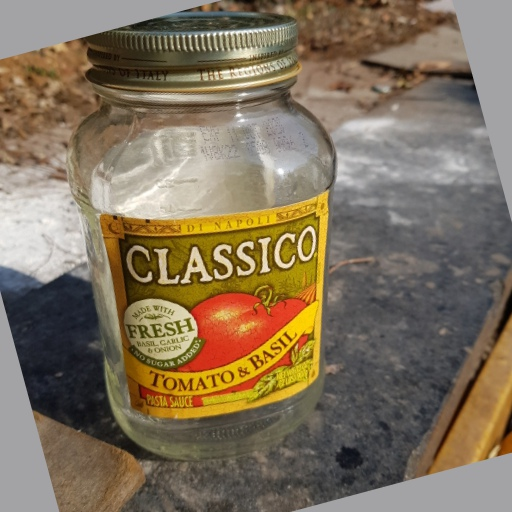Glass_5: (67, 14, 333, 457)
